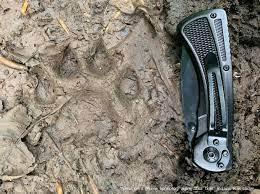Knife: (179, 8, 234, 171)
